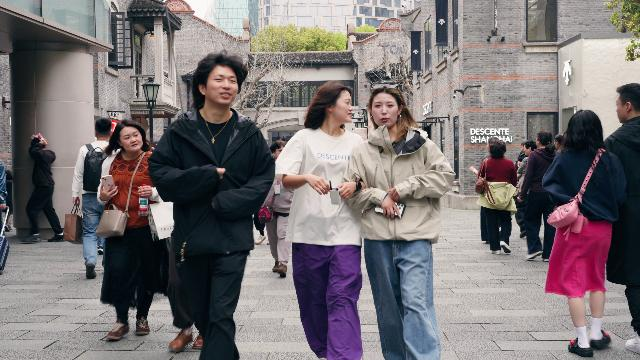person: (148, 50, 276, 360), (343, 82, 457, 360), (274, 80, 367, 360), (541, 109, 626, 358), (96, 117, 169, 342), (603, 83, 640, 356), (72, 117, 112, 278), (468, 138, 518, 255), (24, 133, 65, 243), (512, 140, 537, 239)
